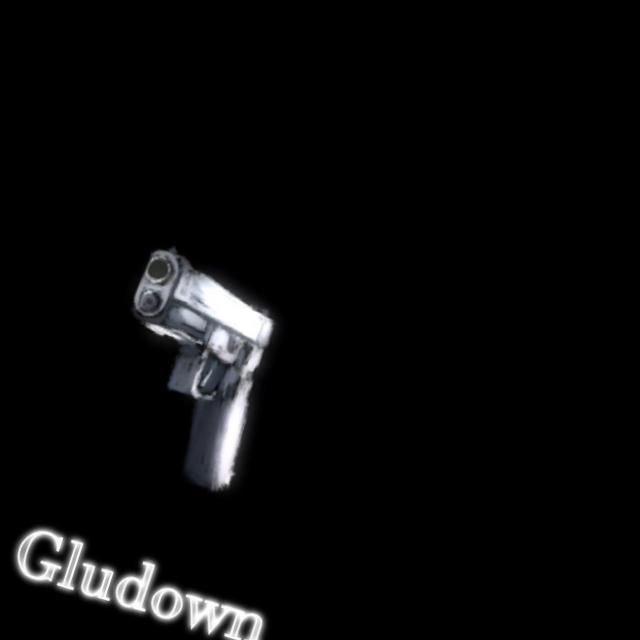-: (44, 152, 368, 520)
